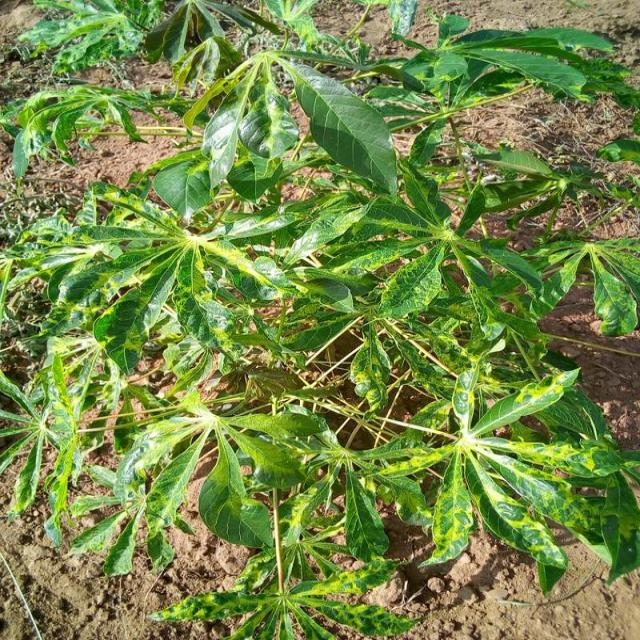cassava leaf: (0, 2, 638, 636), (276, 52, 398, 198)
